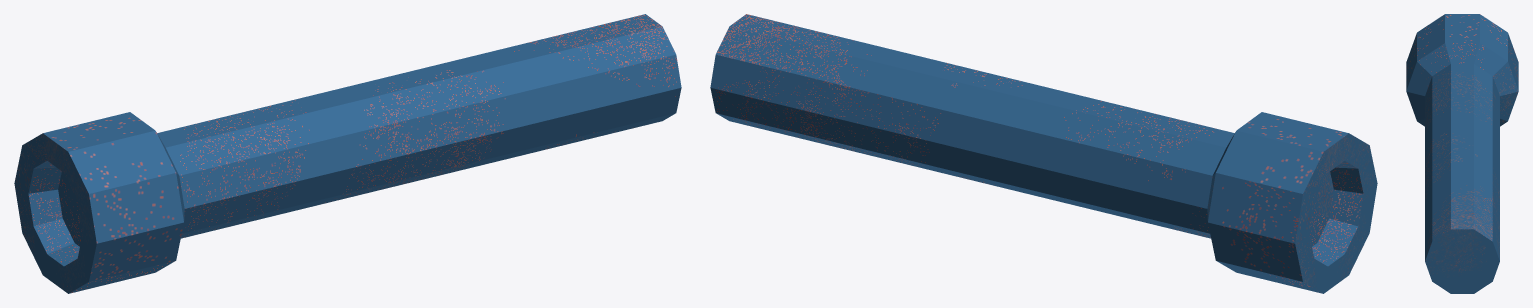
File: short.fbx
3 views of the same model, side by side, from view 1: azimuth 30°, elevation 25°; view 2: azimuth 150°, elevation 25°; view 3: azimuth 270°, elevation 25° (orthographic). The views are drawn at different scales.
Visible parts, largest first — view 1: pCylinder1; view 2: pCylinder1; view 3: pCylinder1.
Boxes of the visible parts, x1,y1,x2,y2 form: pCylinder1: (14, 14, 681, 293); pCylinder1: (710, 14, 1377, 293); pCylinder1: (1406, 14, 1518, 293).
Bounding box in the file's own units: 6.84 × 1.55 × 1.63.
